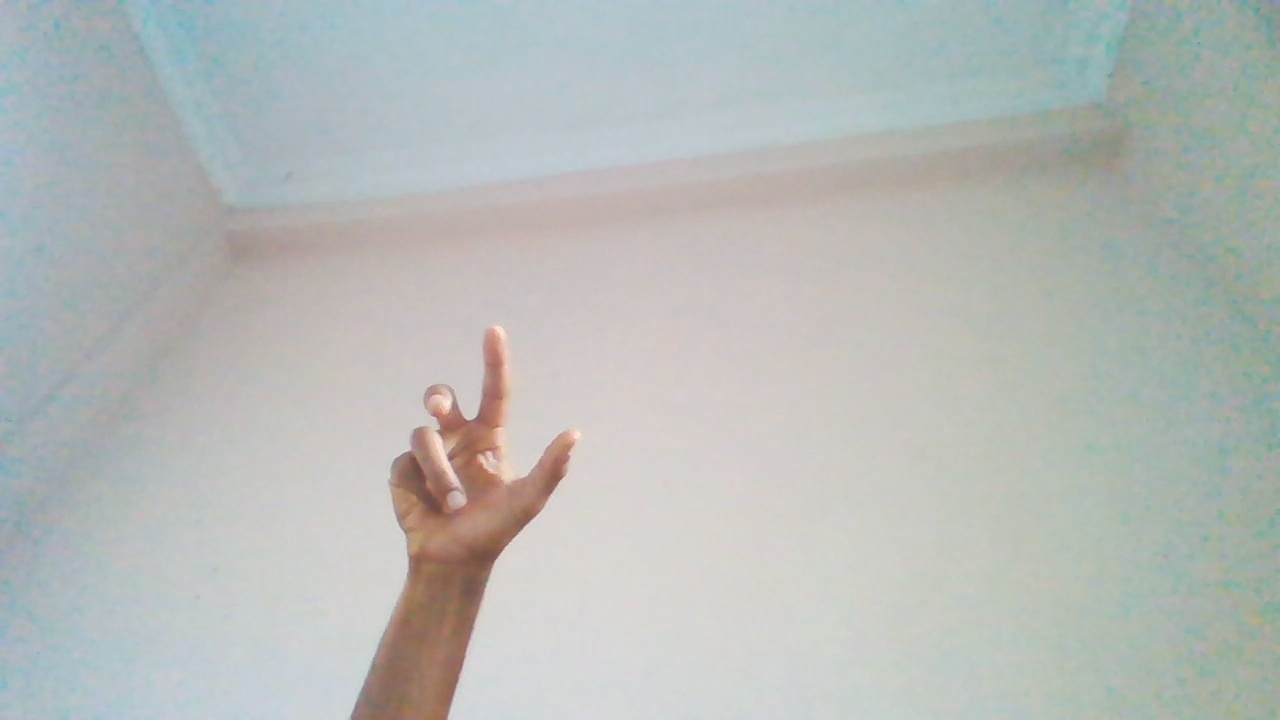hhe: (390, 327, 584, 643)
